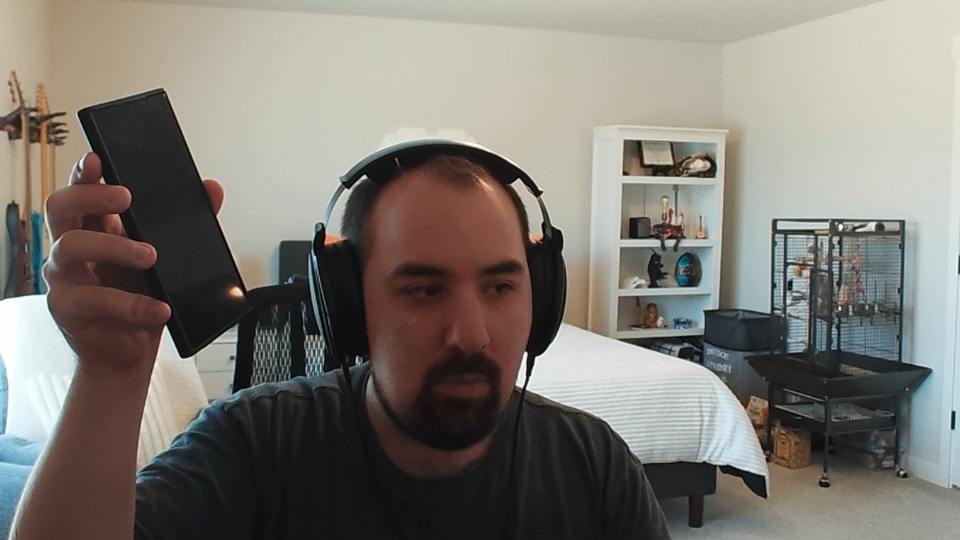MobilePhone: (77, 87, 255, 359)
